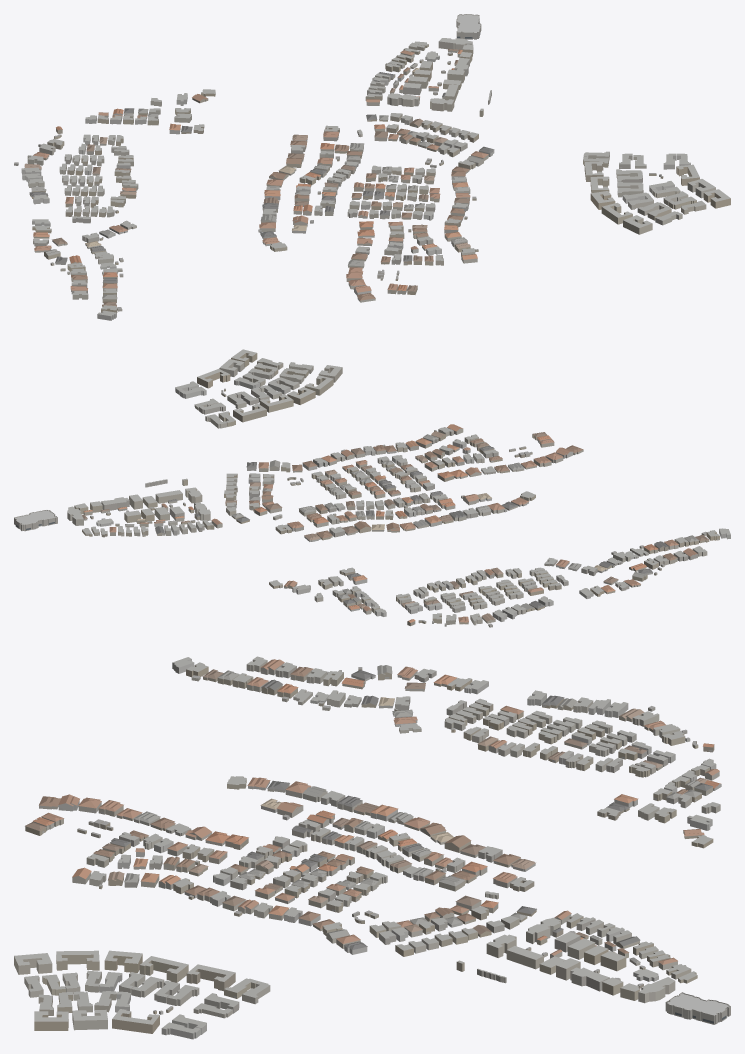
Rendered from buildings_r4_c3.glb.
3 renders of one model, top to bottom at view 1: azimuth 30°, elevation 25°; view 2: azimuth 150°, elevation 25°; view 3: azimuth 270°, elevation 25°, orthographic. The views are drawn at different scales.
Visible parts, largest first — view 1: buildings_r4_c3; view 2: buildings_r4_c3; view 3: buildings_r4_c3.
Part boxes in pixels (bbox=[...]): buildings_r4_c3: bbox=[14, 14, 730, 320]; buildings_r4_c3: bbox=[14, 349, 730, 627]; buildings_r4_c3: bbox=[14, 656, 730, 1039].
Size of the model in its own units: 1081 by 41.44 by 827.
